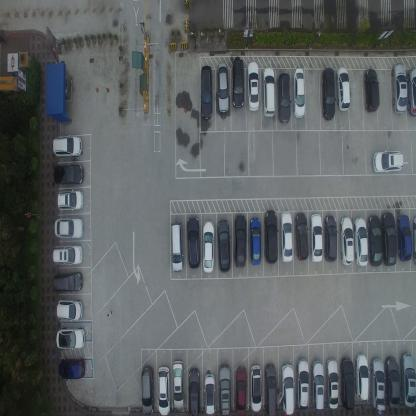car: (379, 212, 396, 268), (390, 62, 408, 113), (384, 355, 401, 409), (400, 352, 416, 408), (339, 355, 355, 410), (370, 357, 385, 415), (261, 66, 277, 120), (216, 216, 231, 272), (366, 216, 382, 268), (276, 73, 292, 125), (372, 148, 404, 174), (263, 210, 278, 265), (185, 215, 200, 269), (280, 362, 295, 416), (363, 66, 380, 113), (201, 218, 215, 274), (232, 213, 246, 268), (321, 66, 335, 121), (52, 270, 84, 294), (169, 219, 183, 273), (57, 354, 85, 381), (200, 64, 213, 122), (52, 132, 82, 157), (55, 326, 86, 350), (325, 357, 339, 410), (396, 217, 412, 263), (52, 162, 84, 185), (335, 66, 351, 112), (279, 211, 293, 263), (353, 217, 367, 268), (310, 360, 324, 411), (53, 216, 85, 238), (264, 362, 277, 416), (340, 215, 354, 265), (157, 365, 171, 415), (56, 298, 84, 323), (294, 212, 308, 261), (354, 353, 368, 402), (52, 244, 83, 266), (217, 62, 230, 114), (218, 364, 231, 416), (141, 364, 154, 416), (323, 214, 337, 262), (309, 213, 322, 264), (247, 61, 260, 112), (293, 67, 306, 118), (250, 364, 263, 413), (232, 56, 244, 109), (297, 356, 309, 408), (249, 215, 261, 266), (56, 189, 84, 210), (235, 366, 247, 415), (188, 366, 200, 415), (173, 358, 184, 410), (203, 372, 216, 415), (406, 66, 416, 115), (412, 215, 416, 267)
